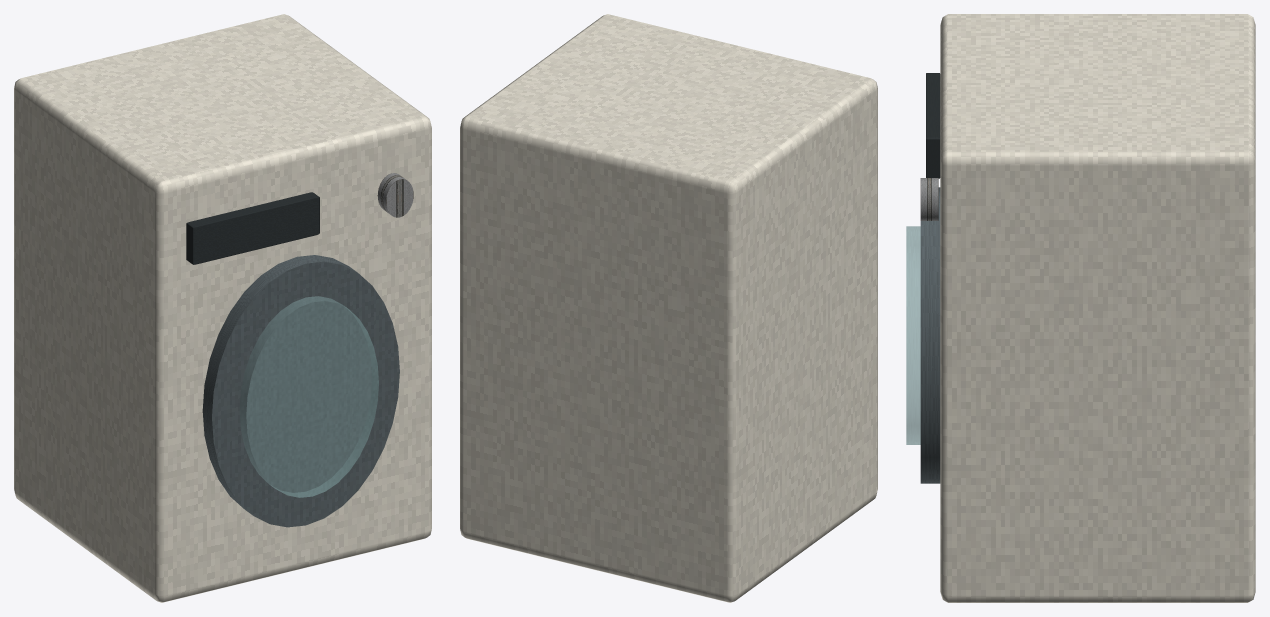
File: washer.glb
The picture shows the model from 3 angles, left to right: view 1: azimuth 30°, elevation 25°; view 2: azimuth 150°, elevation 25°; view 3: azimuth 270°, elevation 25°; orthographic projection. The views are drawn at different scales.
Visible parts, largest first — view 1: case, hatch, window, control, dial; view 2: case; view 3: case, hatch, window, control, dial.
Boxes of the visible parts, x1=… form: case: x1=14, y1=14, x2=431, y2=602; hatch: x1=202, y1=255, x2=399, y2=527; window: x1=240, y1=296, x2=378, y2=497; control: x1=186, y1=192, x2=319, y2=264; dial: x1=377, y1=173, x2=413, y2=217; case: x1=460, y1=14, x2=877, y2=602; case: x1=940, y1=14, x2=1255, y2=602; hatch: x1=920, y1=187, x2=940, y2=483; window: x1=906, y1=226, x2=920, y2=444; control: x1=926, y1=73, x2=940, y2=178; dial: x1=920, y1=178, x2=938, y2=220.
Size of the model in its own units: 0.61 by 0.89 by 0.624.
Materials: 5 (5 with a texture image).
